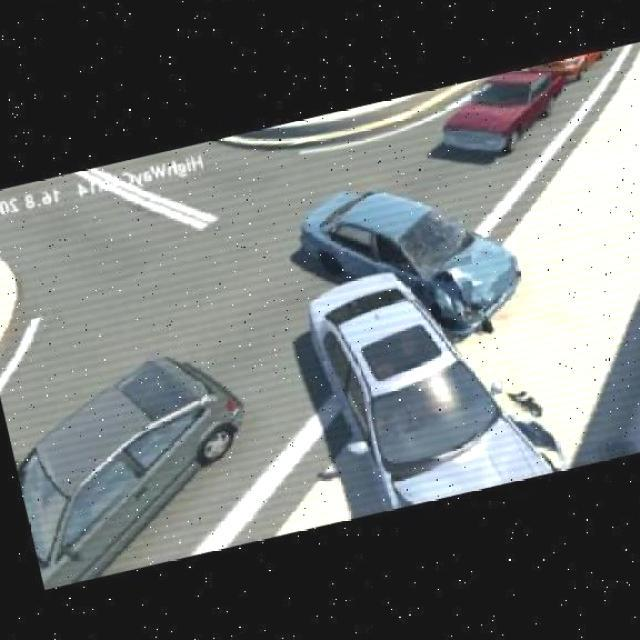accident: (257, 154, 572, 522)
